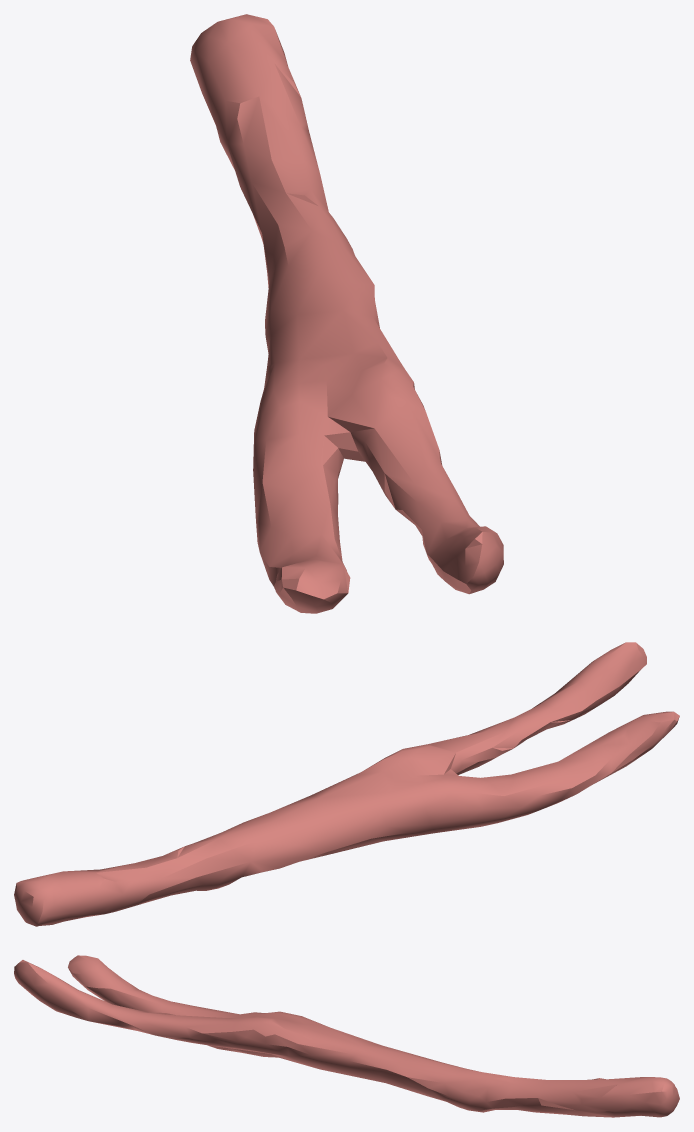
Rendered from fma223215_mm1754m.glb.
3 views of the same model, one above another, from view 1: azimuth 30°, elevation 25°; view 2: azimuth 150°, elevation 25°; view 3: azimuth 270°, elevation 25° (orthographic). The views are drawn at different scales.
Parts seen in each view (by area): view 1: FMA223215_MM1754M; view 2: FMA223215_MM1754M; view 3: FMA223215_MM1754M.
Part boxes in pixels (x1,y1,x2,y2): FMA223215_MM1754M: (190,14,503,613); FMA223215_MM1754M: (14,642,679,926); FMA223215_MM1754M: (14,955,679,1117).
Size of the model in its own units: 0.0259 by 0.00718 by 0.0526.
